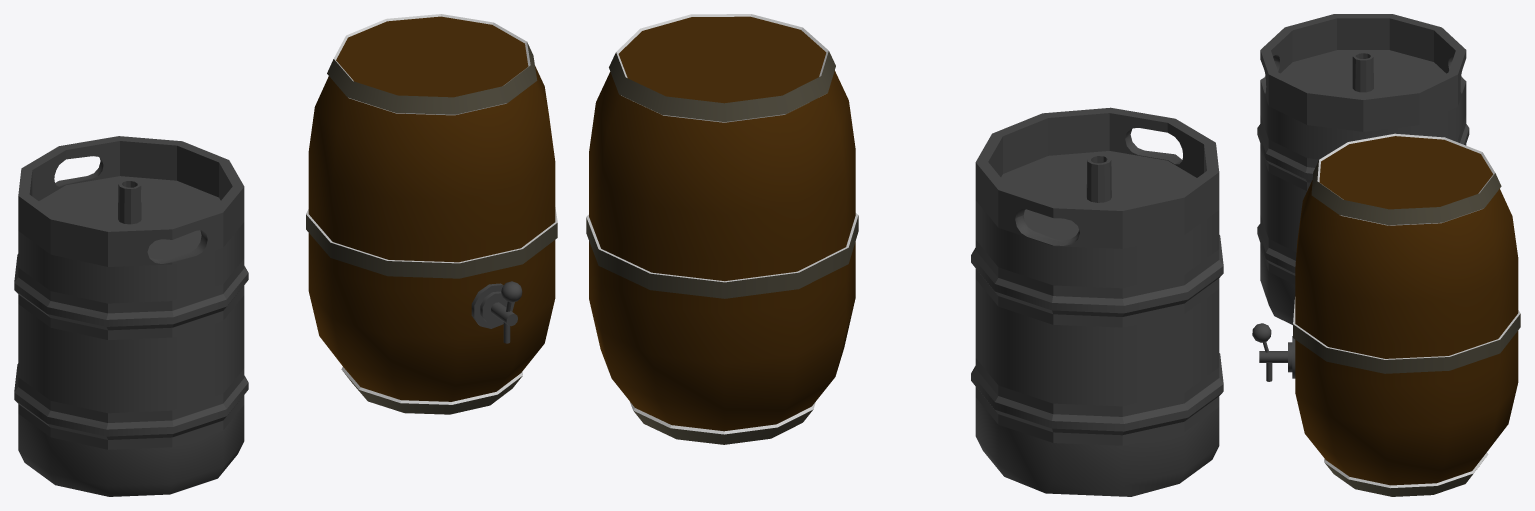
3 renders of one model, left to right at view 1: azimuth 30°, elevation 25°; view 2: azimuth 150°, elevation 25°; view 3: azimuth 270°, elevation 25°, orthographic. The views are drawn at different scales.
Visible parts, largest first — view 1: Cylinder001, ChamferBox002; view 2: Cylinder001, ChamferBox002; view 3: Cylinder001, ChamferBox002.
Part boxes in pixels (box(x1,y1,x2,y2)): Cylinder001: box(306, 14, 557, 414); ChamferBox002: box(14, 136, 248, 496); Cylinder001: box(586, 14, 858, 444); ChamferBox002: box(971, 107, 1223, 496); Cylinder001: box(1252, 133, 1520, 496); ChamferBox002: box(1257, 14, 1469, 324).
Size of the model in its own units: 98.47 by 57.23 by 47.24.
